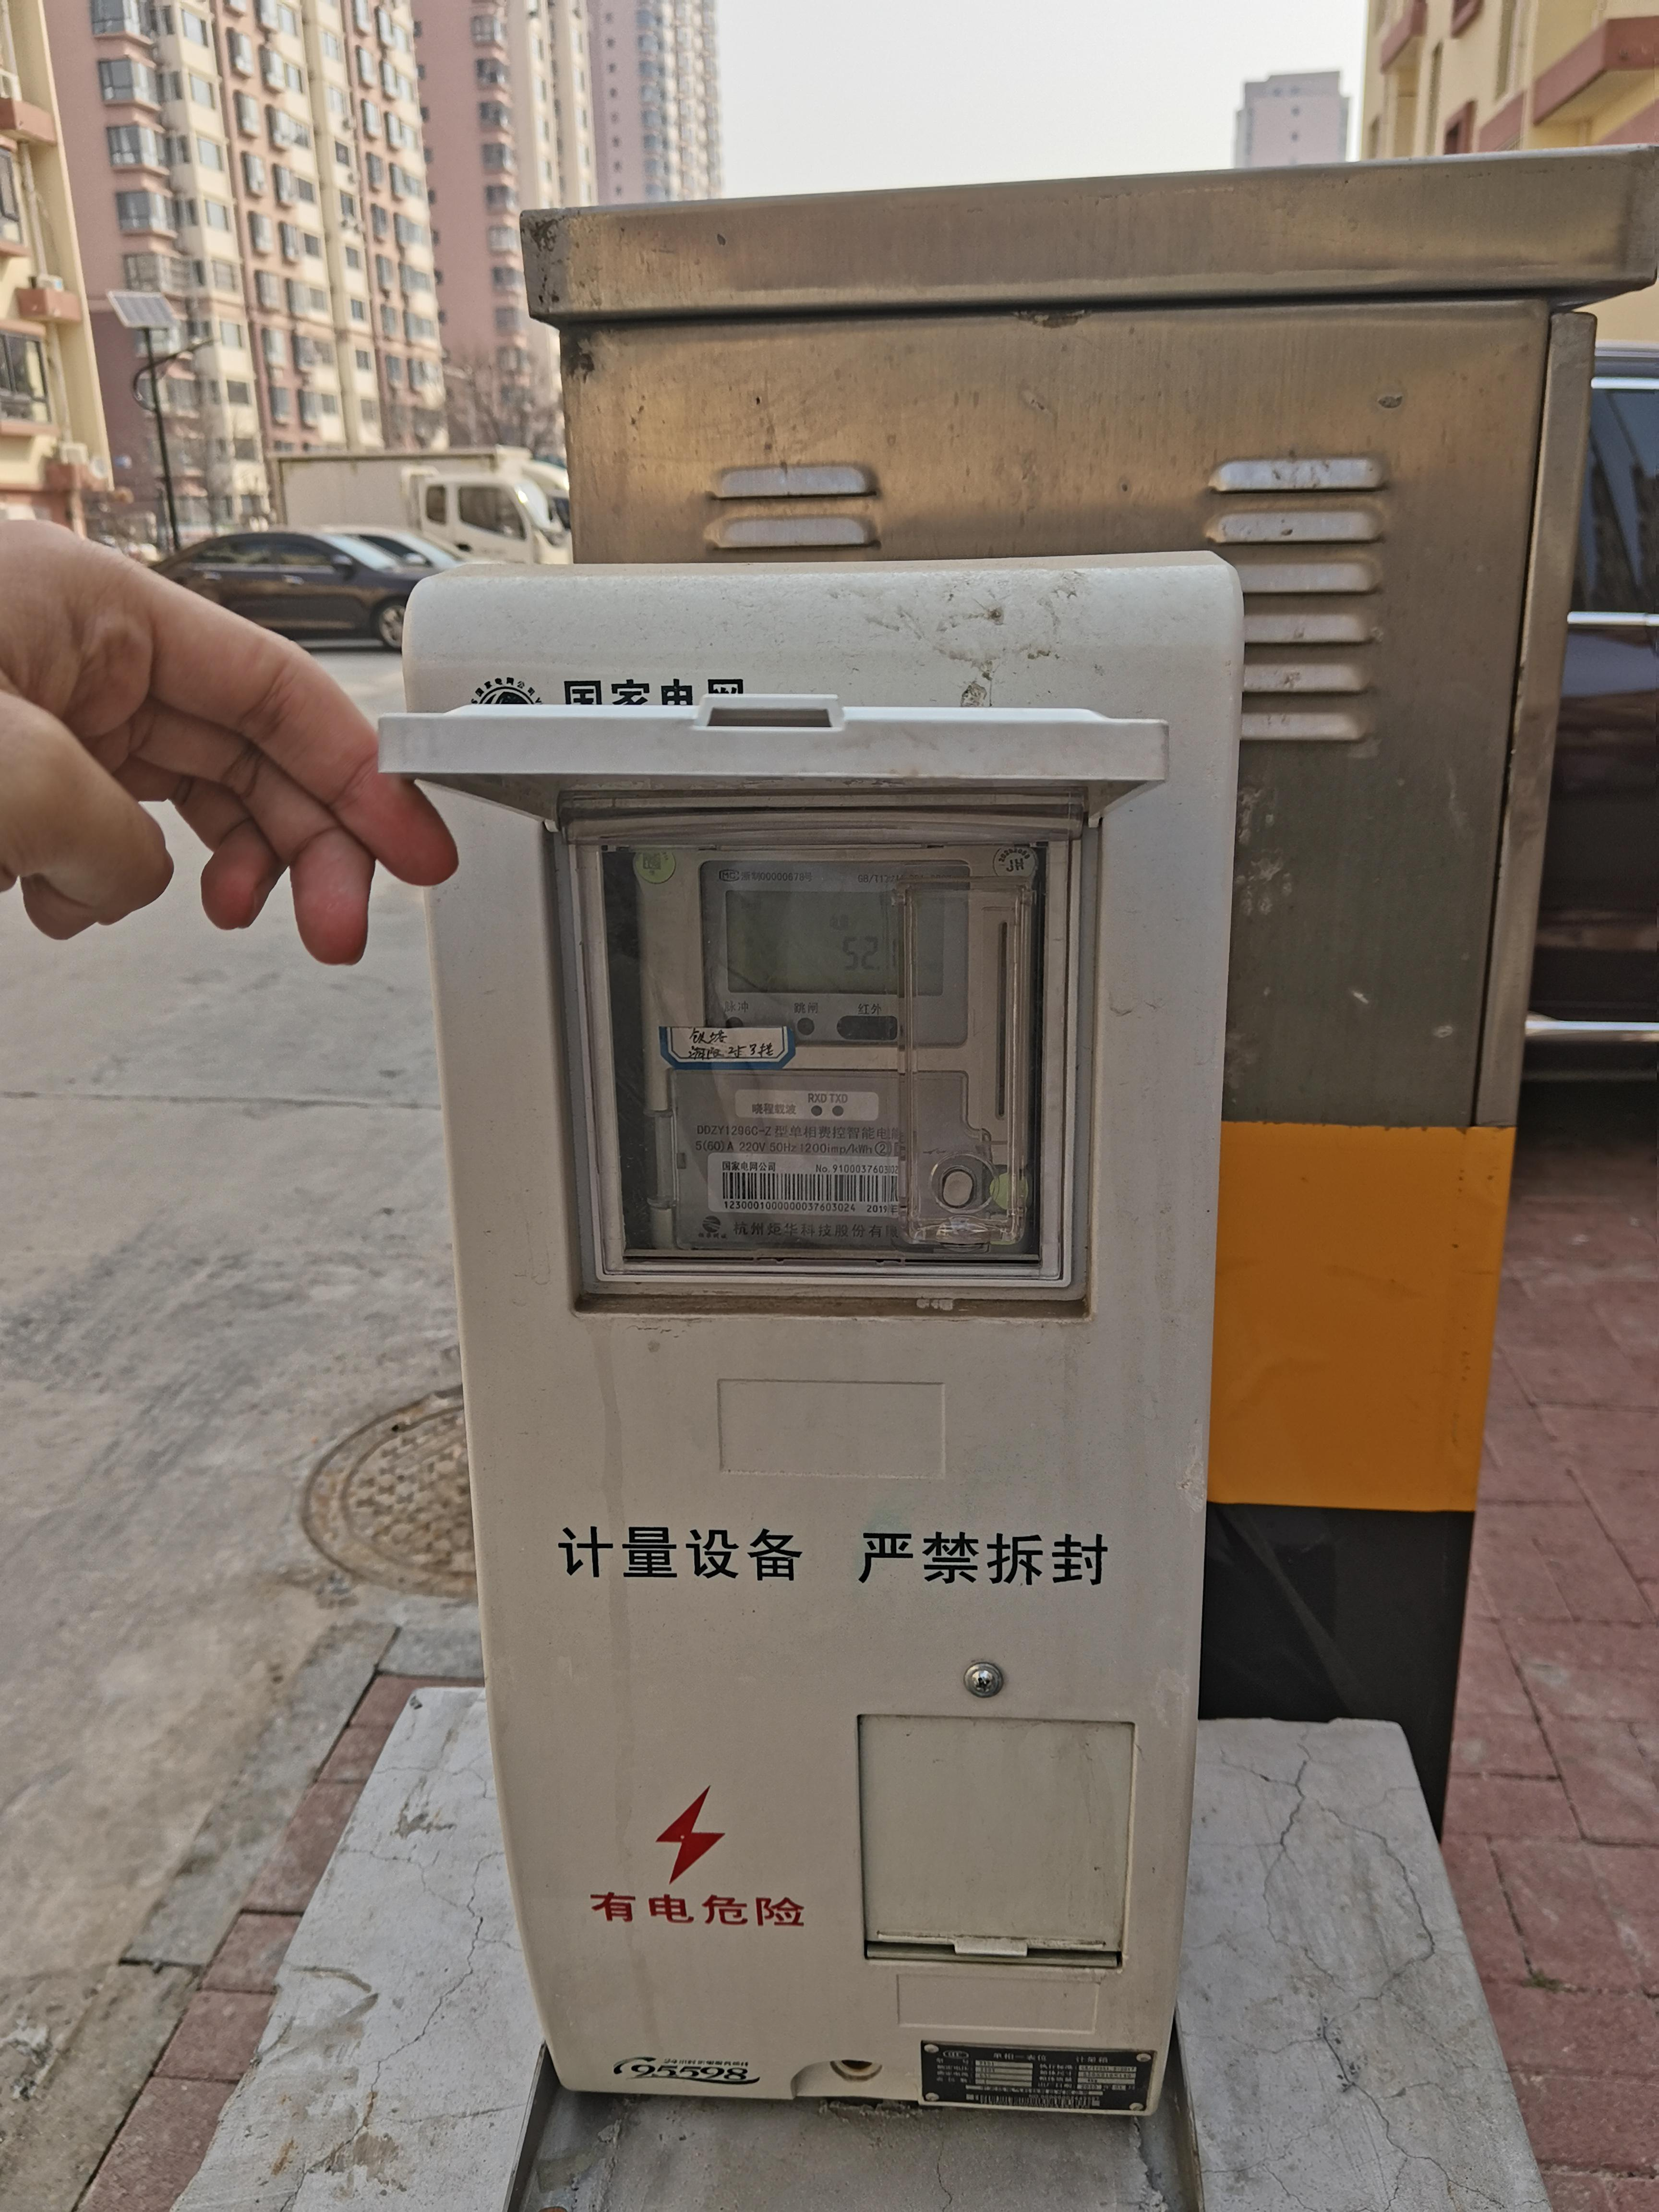digital: (626, 846, 1025, 1252)
